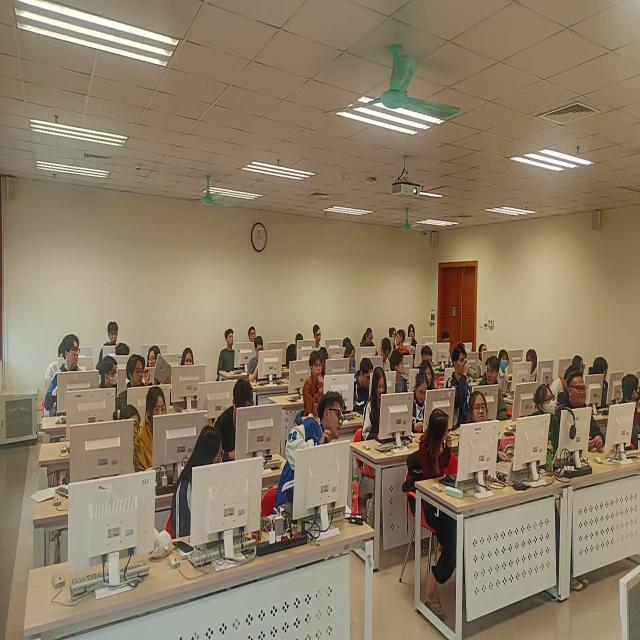raise_head: (276, 387, 347, 516), (558, 371, 605, 452), (49, 334, 82, 409), (448, 344, 474, 425), (533, 382, 560, 459), (303, 348, 326, 415), (217, 327, 239, 376), (127, 352, 153, 390), (469, 390, 491, 424), (499, 349, 513, 391), (179, 346, 198, 367), (422, 361, 435, 388), (408, 320, 417, 342), (247, 324, 258, 342), (479, 343, 489, 360)
using_computer: (213, 381, 256, 463), (363, 367, 391, 441), (354, 354, 375, 416), (246, 337, 269, 384), (413, 372, 429, 435), (592, 355, 611, 406), (287, 332, 307, 365), (440, 329, 455, 370), (553, 366, 574, 395), (345, 341, 359, 375), (344, 343, 357, 375), (381, 336, 392, 372), (360, 326, 377, 347), (115, 339, 133, 358), (572, 356, 588, 377), (108, 319, 121, 344), (422, 344, 436, 365), (313, 323, 324, 349), (441, 327, 453, 345), (389, 325, 398, 339)
